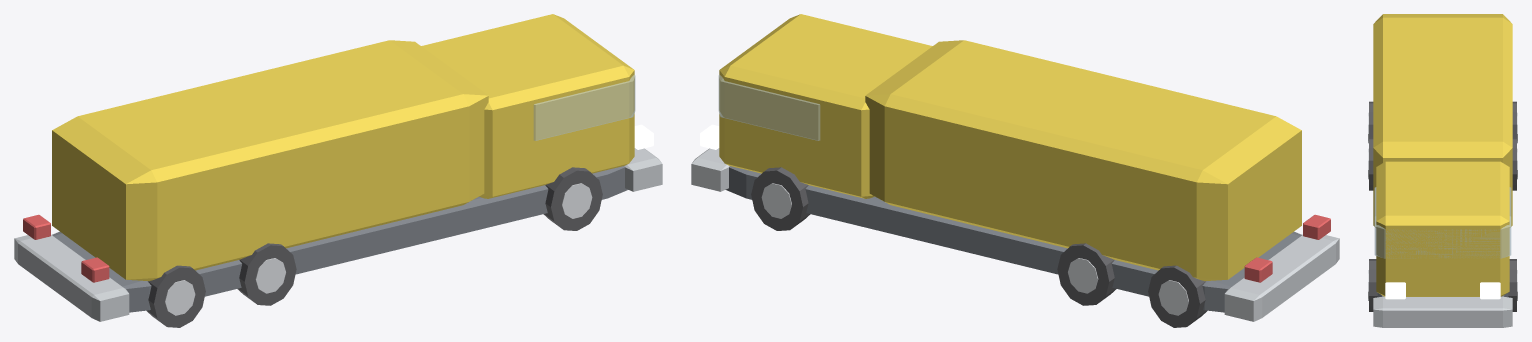
File: b15_snowplow_spreader_truck.glb
3 renders of one model, left to right at view 1: azimuth 30°, elevation 25°; view 2: azimuth 150°, elevation 25°; view 3: azimuth 270°, elevation 25°, orthographic. The views are drawn at different scales.
Visible parts, largest first — view 1: b15_snowplow_spreader_truck; view 2: b15_snowplow_spreader_truck; view 3: b15_snowplow_spreader_truck.
Boxes of the visible parts, bbox=[...] form: b15_snowplow_spreader_truck: bbox=[14, 14, 662, 327]; b15_snowplow_spreader_truck: bbox=[691, 14, 1339, 327]; b15_snowplow_spreader_truck: bbox=[1368, 14, 1517, 327].
Size of the model in its own units: 11.34 by 2.98 by 3.19.
